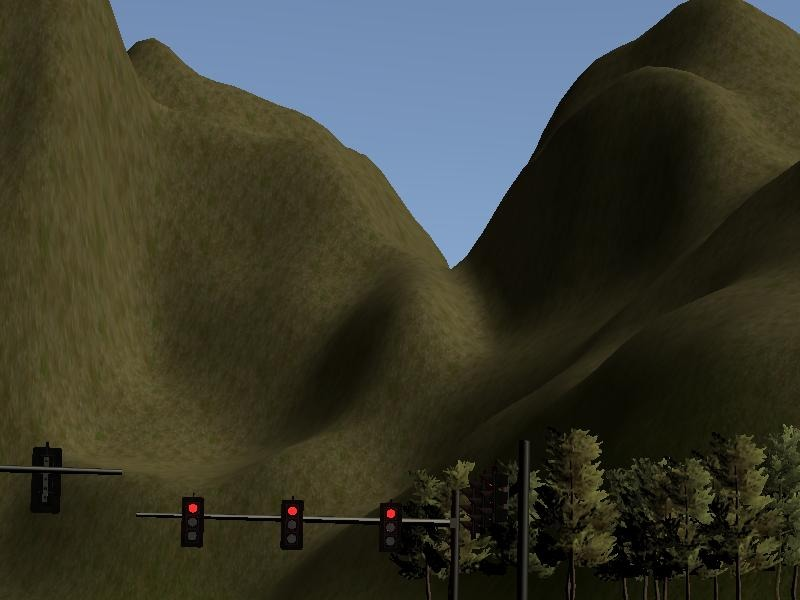red: (181, 495, 205, 548), (379, 501, 403, 554), (279, 498, 303, 551)
